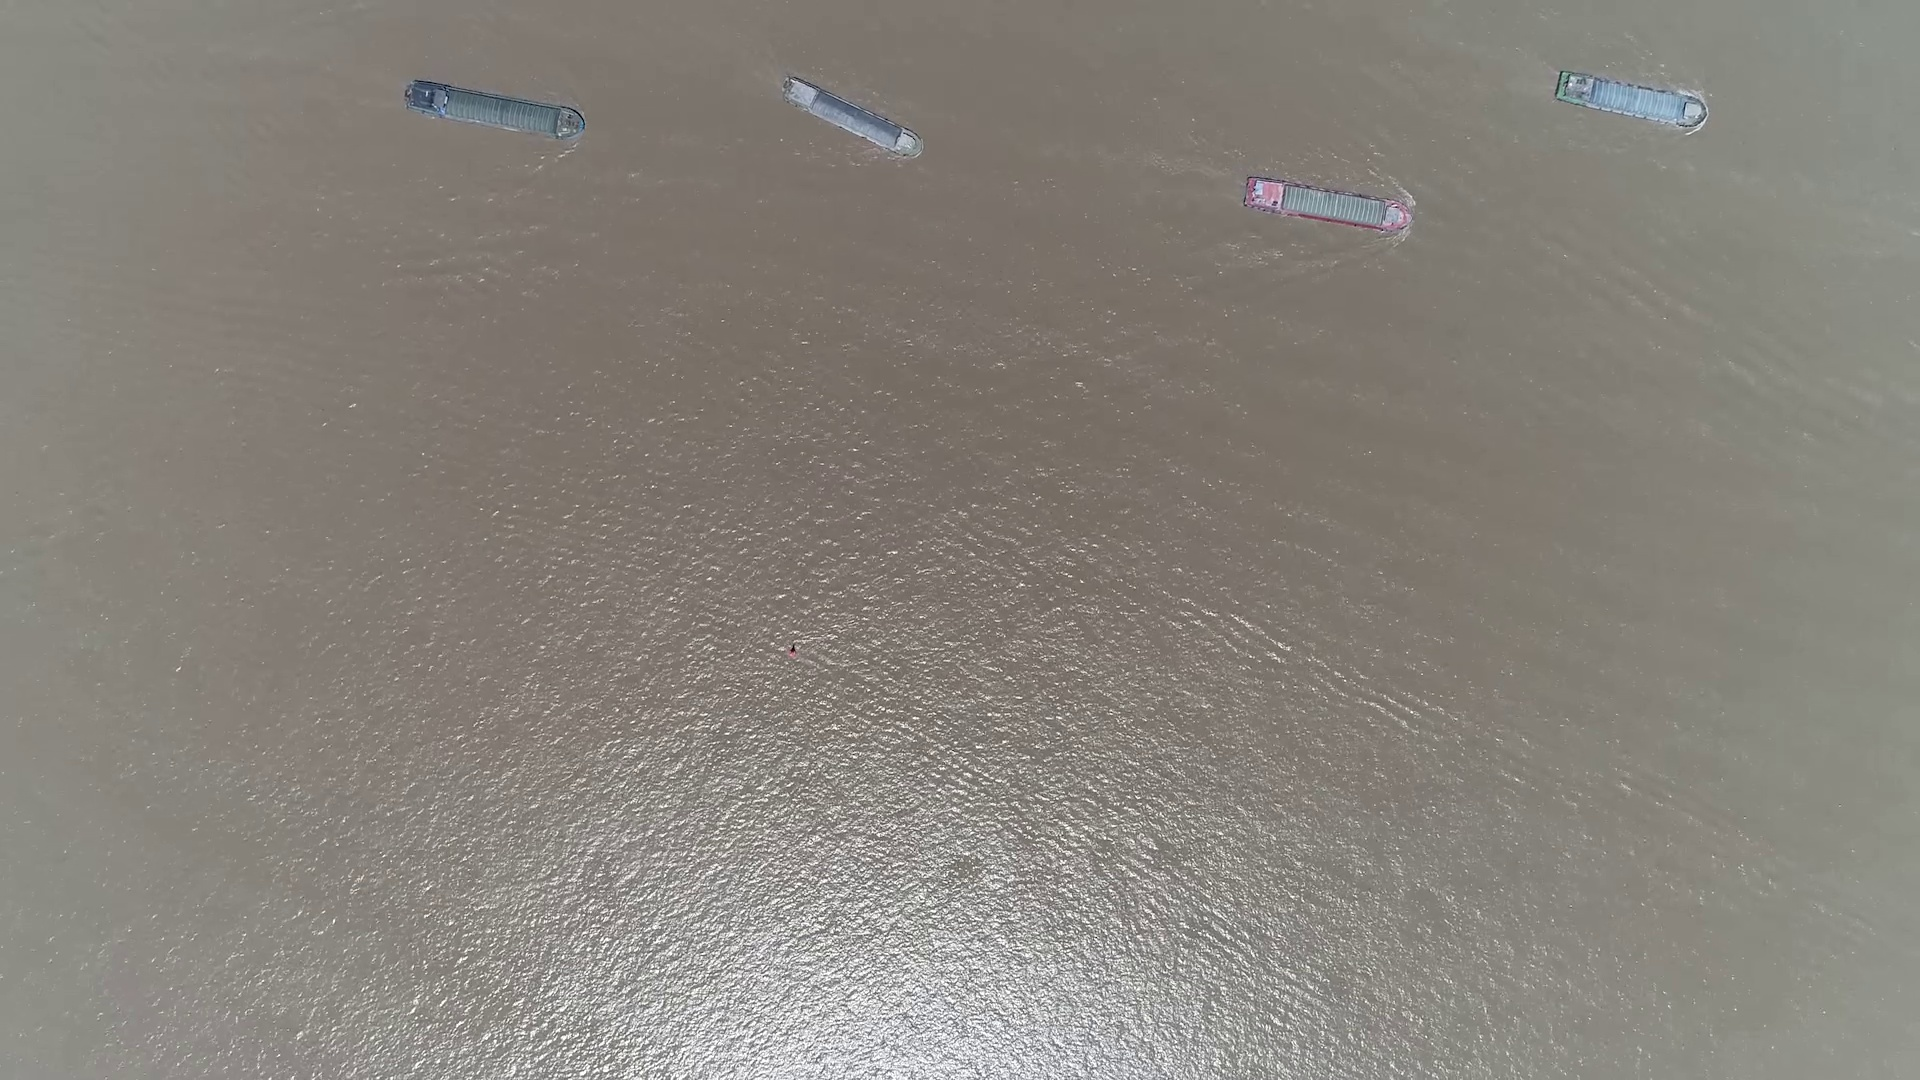ship: (404, 80, 587, 142), (779, 78, 919, 157), (1242, 177, 1414, 233), (1556, 75, 1702, 127)
